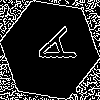A: (25, 25, 77, 74)
